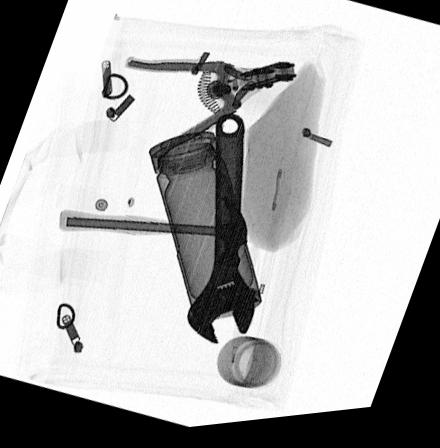Hammer: (55, 197, 248, 275)
Pliers: (124, 59, 297, 162)
Wrench: (186, 117, 254, 351)
